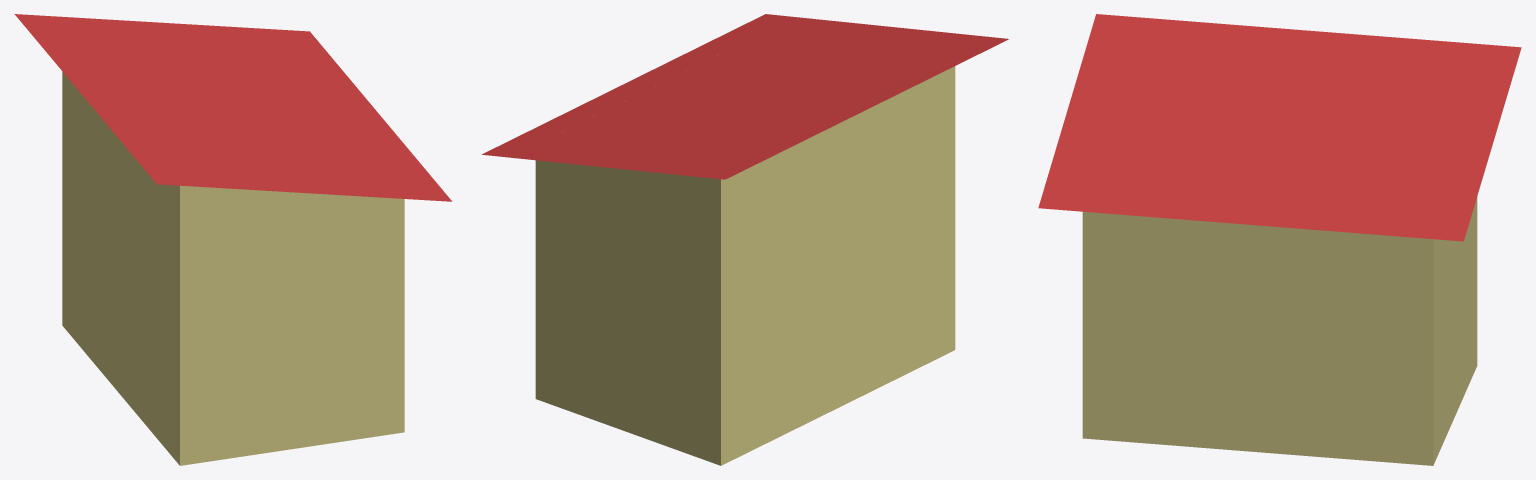
3 renders of one model, left to right at view 1: azimuth 30°, elevation 25°; view 2: azimuth 150°, elevation 25°; view 3: azimuth 270°, elevation 25°, orthographic. The views are drawn at different scales.
Bounding box in the file's own units: 7.69 × 9.51 × 6.64.
